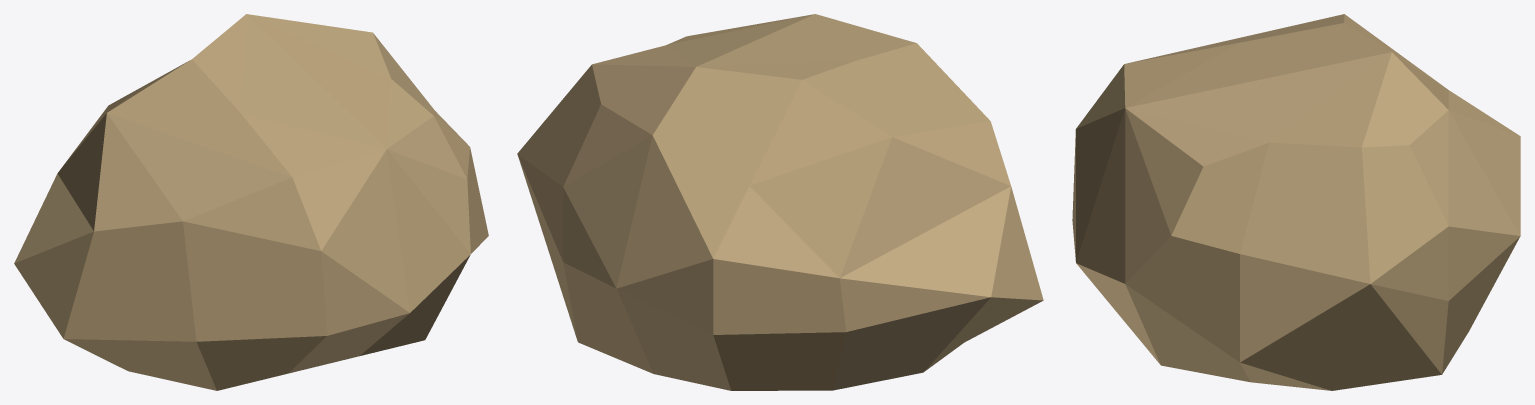
File: Boulder-A07.fbx
3 views of the same model, side by side, from view 1: azimuth 30°, elevation 25°; view 2: azimuth 150°, elevation 25°; view 3: azimuth 270°, elevation 25° (orthographic). The views are drawn at different scales.
Parts seen in each view (by area): view 1: Boulder-A07; view 2: Boulder-A07; view 3: Boulder-A07.
Part boxes in pixels (x1,y1,x2,y2): Boulder-A07: (14,14,488,390); Boulder-A07: (517,14,1043,390); Boulder-A07: (1072,14,1520,390).
Bounding box in the file's own units: 145 × 84.16 × 123.
